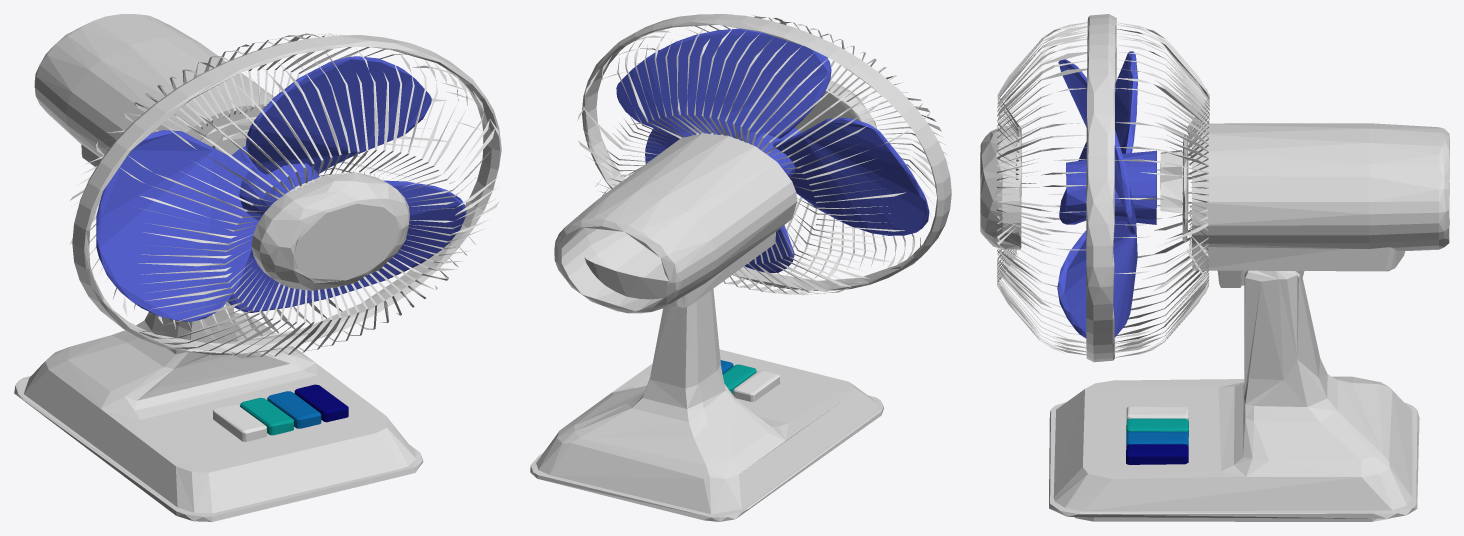
The model's file is sh-bs0-table-fan.glb.
The picture shows the model from 3 angles, left to right: view 1: azimuth 30°, elevation 25°; view 2: azimuth 150°, elevation 25°; view 3: azimuth 270°, elevation 25°; orthographic projection. The views are drawn at different scales.
Visible parts, largest first — view 1: BODY_fan.001, Cylinder.003, BUTTON_01_fan.009, BUTTON_04_fan.006, BUTTON_03_fan.007, BUTTON_02_fan.008; view 2: BODY_fan.001, Cylinder.003, BUTTON_01_fan.009, BUTTON_02_fan.008; view 3: BODY_fan.001, Cylinder.003, BUTTON_04_fan.006, BUTTON_02_fan.008, BUTTON_03_fan.007, BUTTON_01_fan.009.
Boxes of the visible parts, x1,y1,x2,y2 form: BODY_fan.001: (14, 14, 501, 521); Cylinder.003: (96, 56, 466, 321); BUTTON_01_fan.009: (213, 404, 266, 441); BUTTON_04_fan.006: (294, 384, 348, 422); BUTTON_03_fan.007: (267, 391, 321, 428); BUTTON_02_fan.008: (240, 397, 293, 435); BODY_fan.001: (530, 14, 951, 521); Cylinder.003: (616, 28, 929, 272); BUTTON_01_fan.009: (733, 370, 780, 401); BUTTON_02_fan.008: (722, 364, 756, 394); BODY_fan.001: (980, 14, 1449, 521); Cylinder.003: (1057, 51, 1156, 338); BUTTON_04_fan.006: (1126, 444, 1188, 464); BUTTON_02_fan.008: (1126, 418, 1188, 436); BUTTON_03_fan.007: (1126, 431, 1188, 446); BUTTON_01_fan.009: (1126, 406, 1188, 420).
Bounding box in the file's own units: 0.9984 × 0.9989 × 0.9996.
